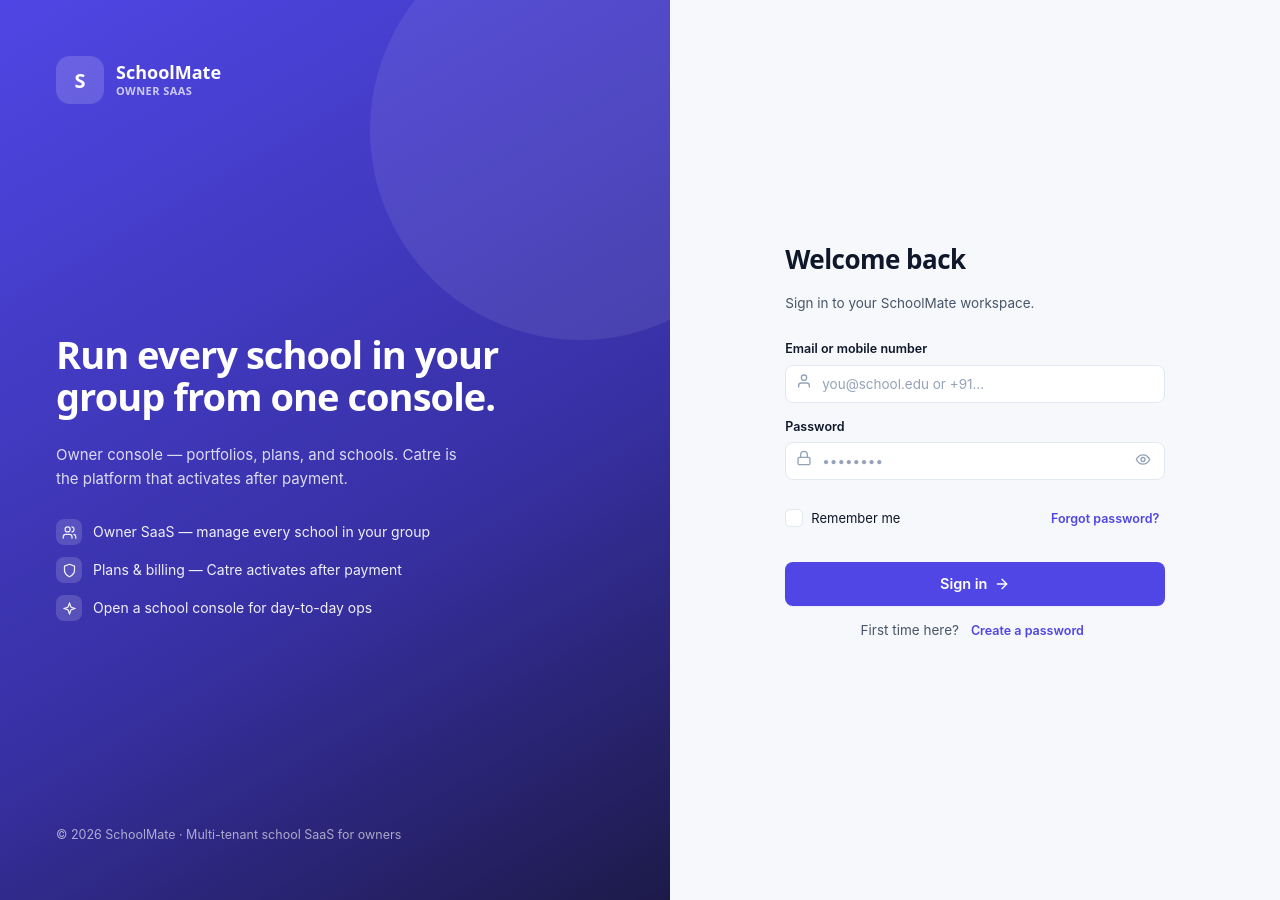
LoginScreen › Remember me saves login id only — never the password
Type "owner@school.edu" into the field with placeholder "you@school.edu or +91…" at (975, 384), box top-left (785, 365), bottom-right (1165, 403)
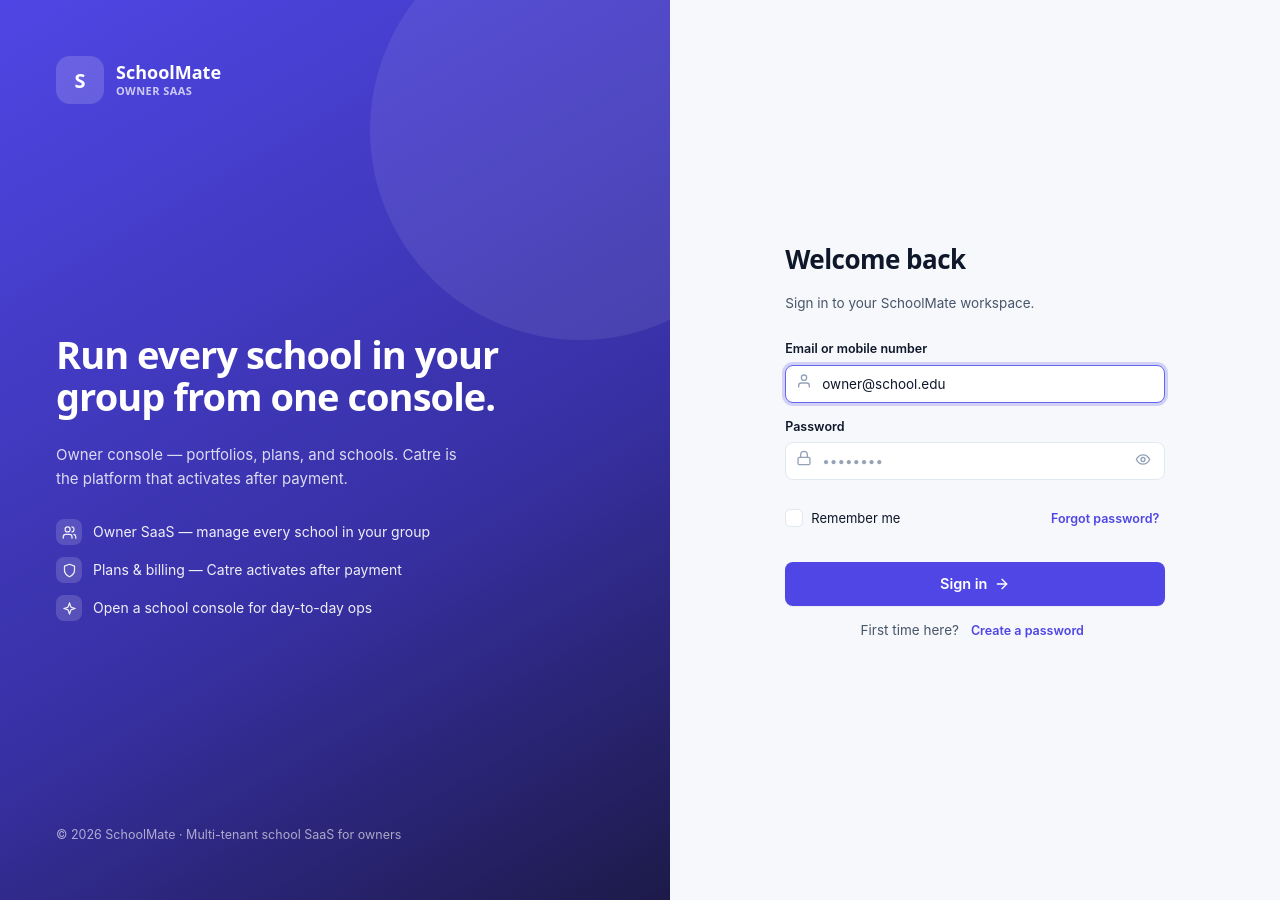
Type "secret123" into the password field with placeholder "••••••••" at (975, 461), box top-left (785, 442), bottom-right (1165, 480)
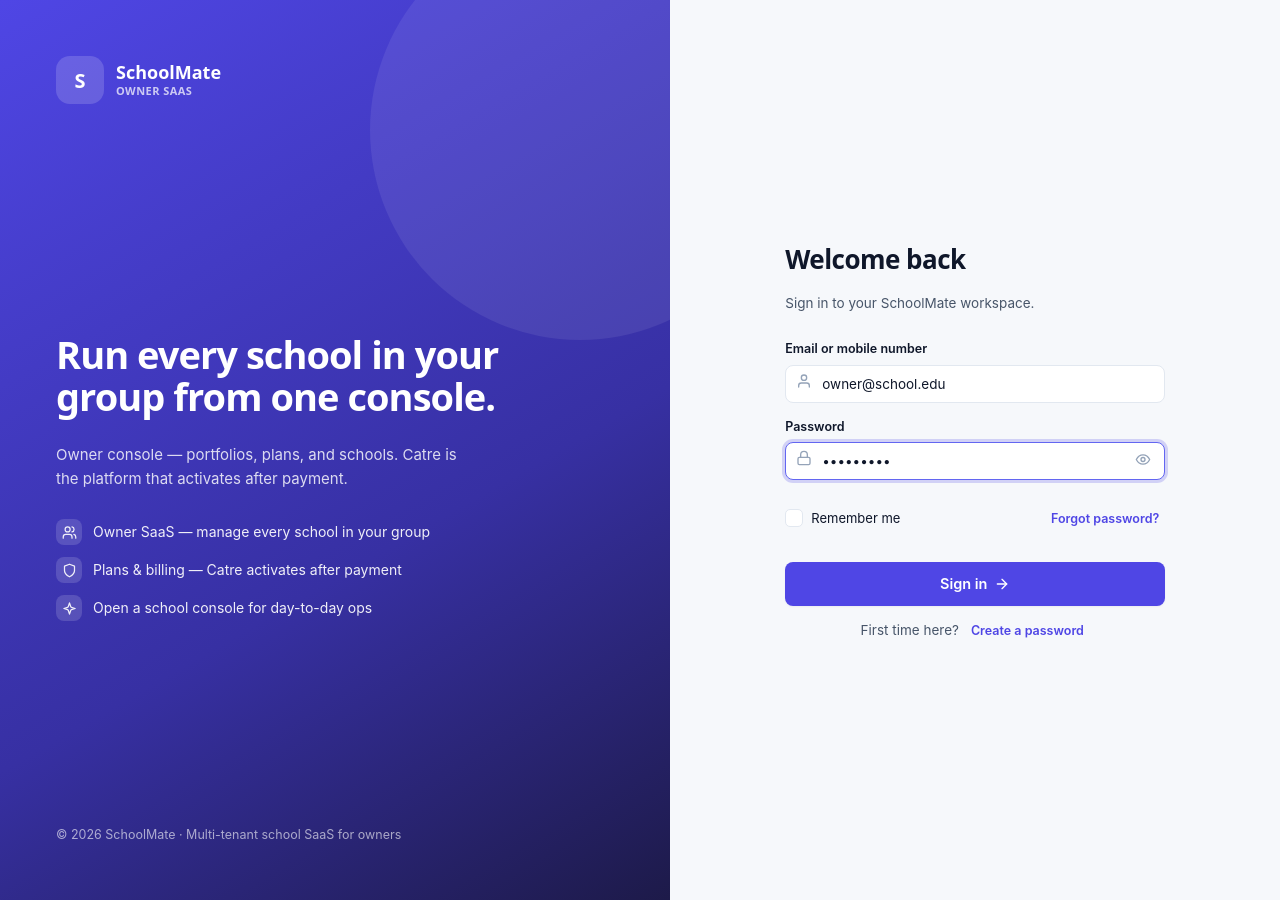
Click the checkbox labelled "Remember me" at (843, 518), box top-left (785, 508), bottom-right (900, 528)
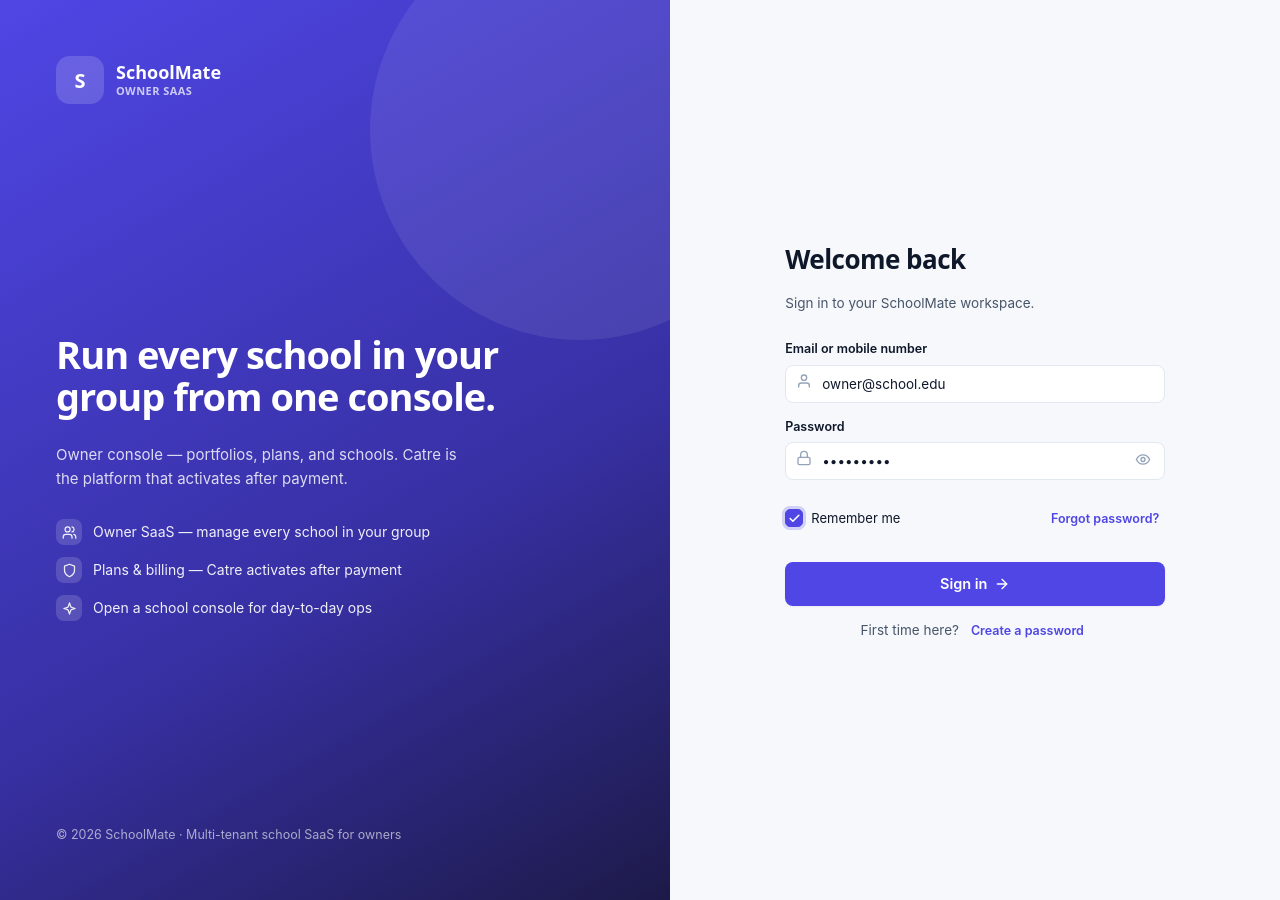
Click the button "Sign in" at (975, 584), box top-left (785, 562), bottom-right (1165, 606)
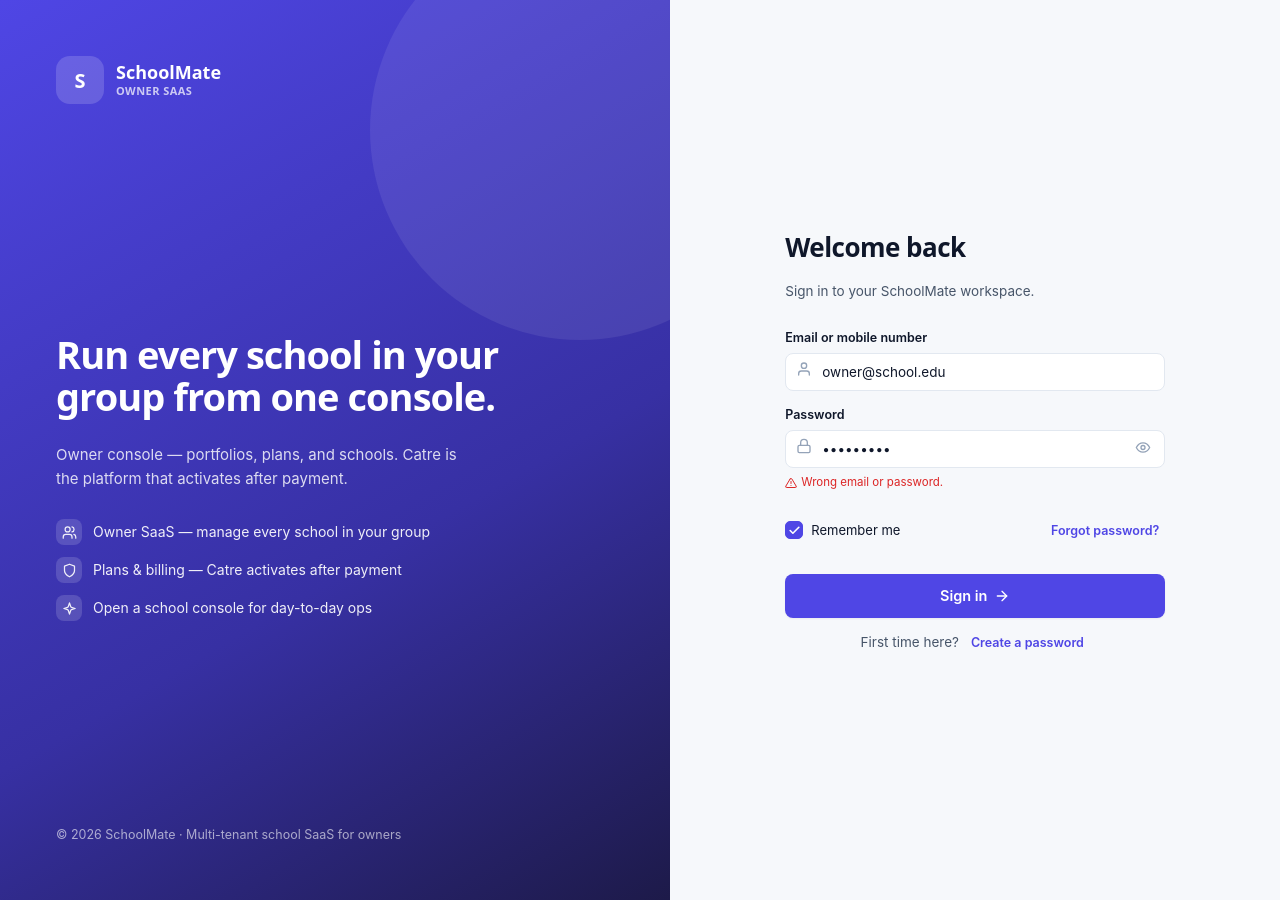
Check: the text "Wrong email or password." is shown, box top-left (785, 475), bottom-right (943, 489)
